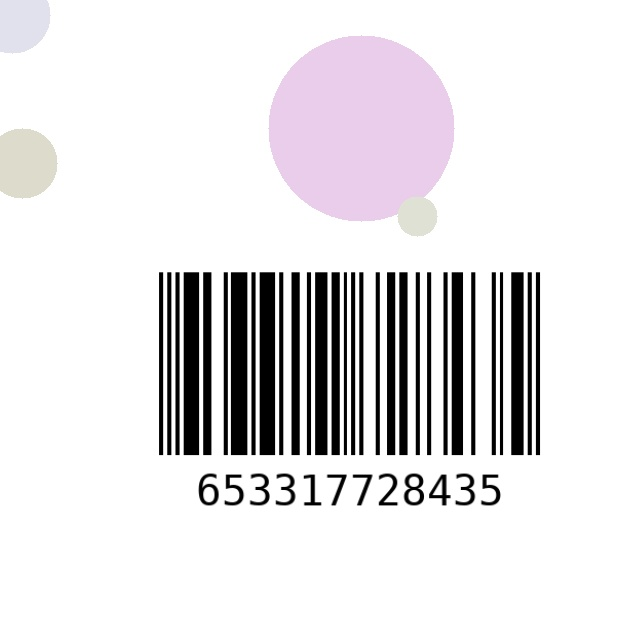barcode: (81, 261, 618, 549)
